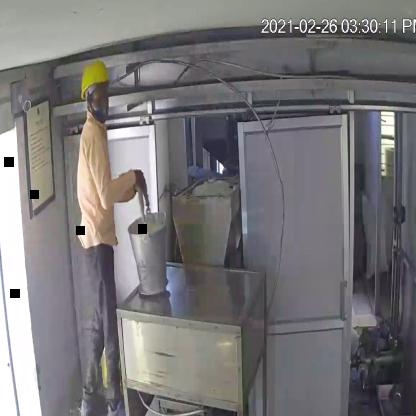helmet: (76, 58, 116, 120)
